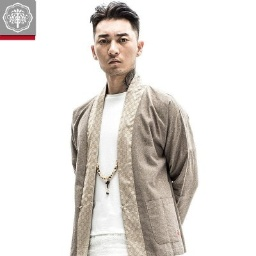face: (89, 3, 144, 76)
